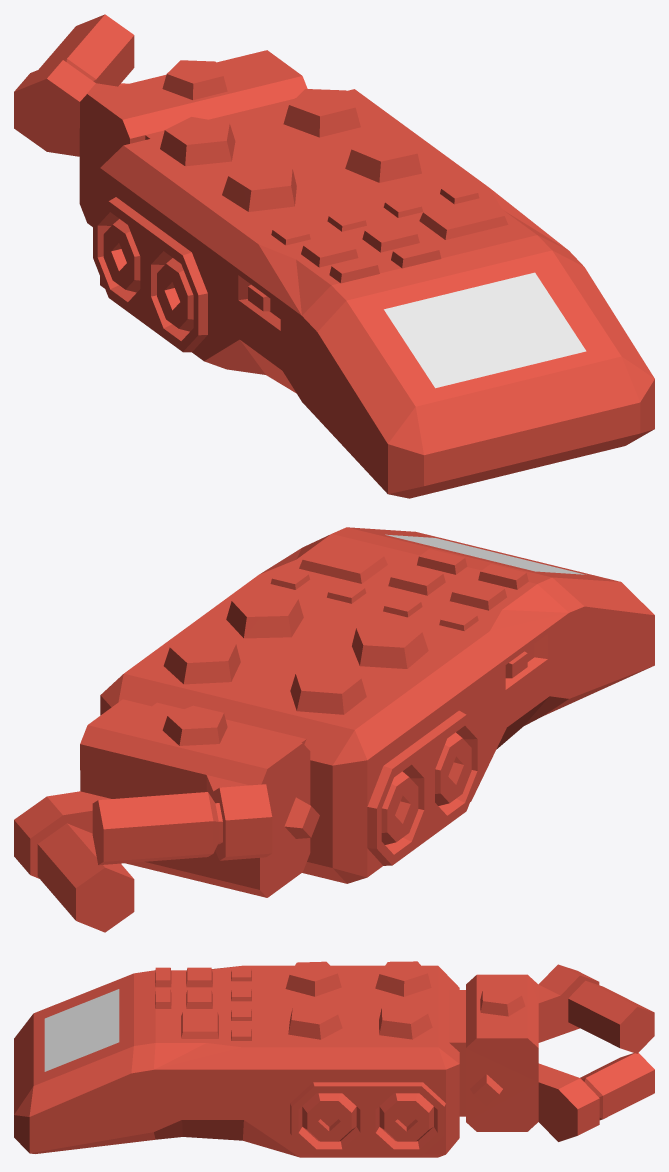
Rendered from SM_Microphone_Portable.fbx.
3 views of the same model, one above another, from view 1: azimuth 30°, elevation 25°; view 2: azimuth 150°, elevation 25°; view 3: azimuth 270°, elevation 25° (orthographic). The views are drawn at different scales.
Parts seen in each view (by area): view 1: SM_Microphone_Portable; view 2: SM_Microphone_Portable; view 3: SM_Microphone_Portable.
Boxes of the visible parts, x1,y1,x2,y2 form: SM_Microphone_Portable: (14, 14, 654, 498); SM_Microphone_Portable: (14, 527, 654, 932); SM_Microphone_Portable: (14, 961, 654, 1157).
Bounding box in the file's own units: 21.83 × 8.07 × 4.76.
